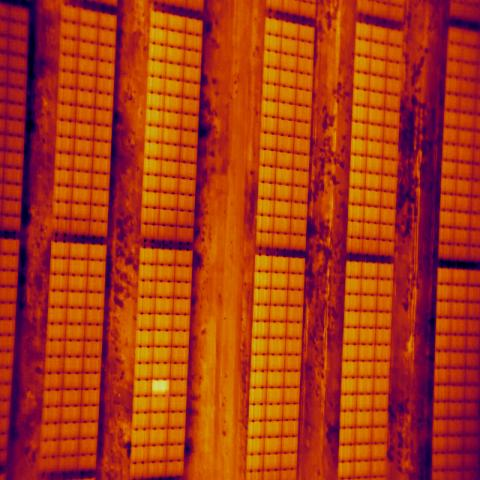fault: (152, 379, 170, 397)
